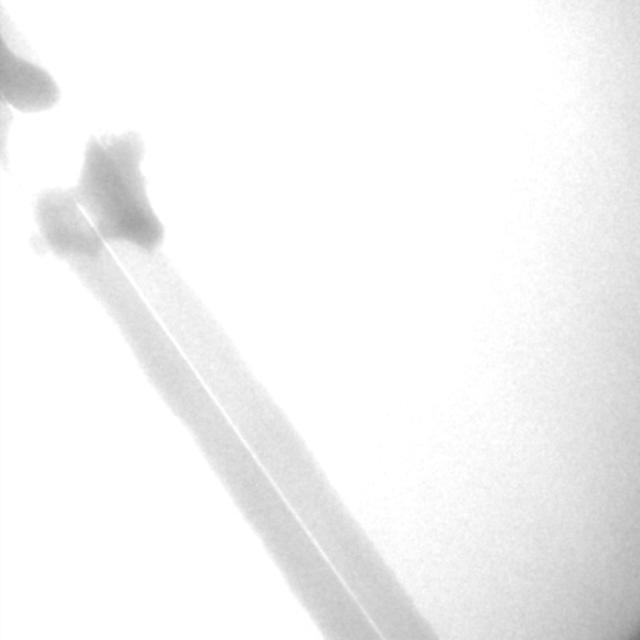broken arc: (6, 102, 383, 638)
